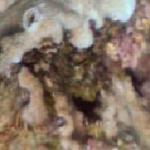alive: (1, 8, 147, 147)
